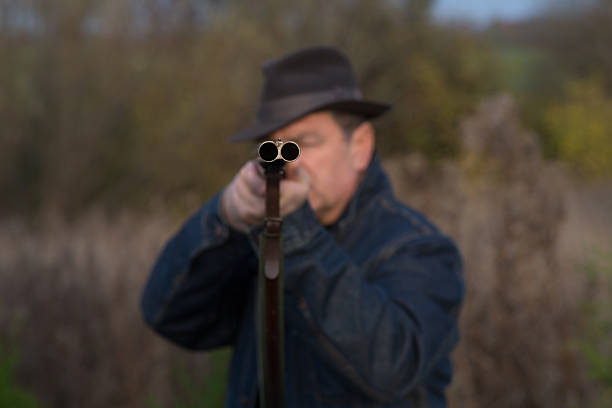gun: (257, 137, 299, 171)
